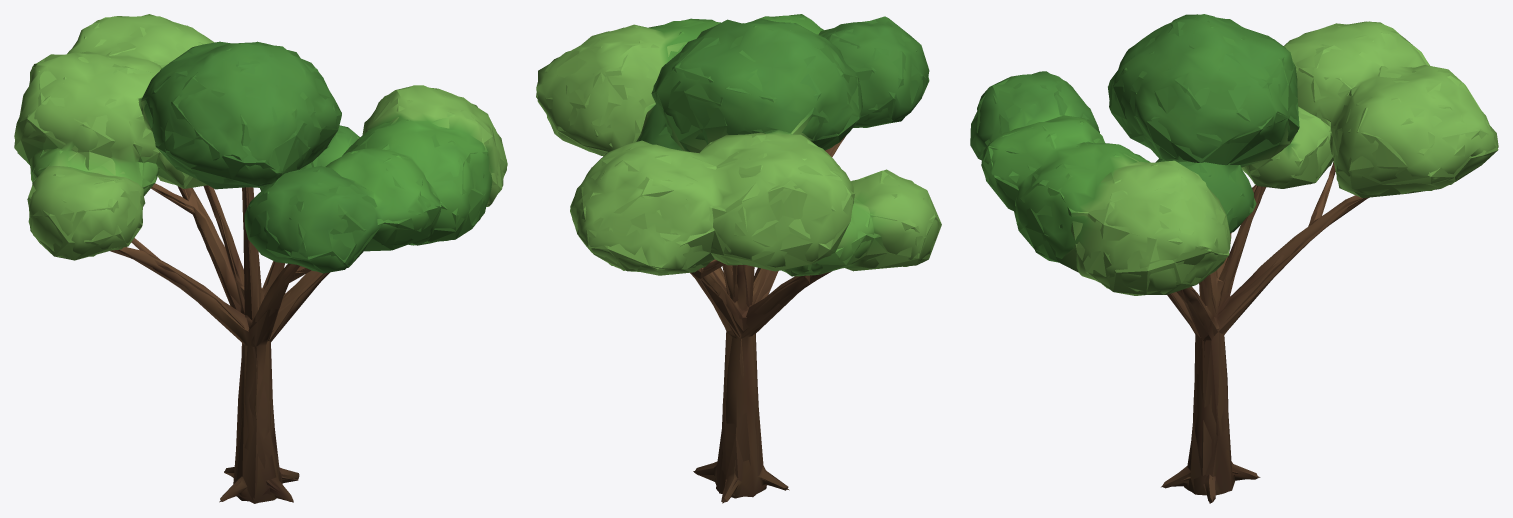
Rendered from broadleaf_mature.glb.
3 views of the same model, side by side, from view 1: azimuth 30°, elevation 25°; view 2: azimuth 150°, elevation 25°; view 3: azimuth 270°, elevation 25° (orthographic). The views are drawn at different scales.
Visible parts, largest first — view 1: broadleaf_mature_LOD1, broadleaf_mature_LOD2; view 2: broadleaf_mature_LOD1, broadleaf_mature_LOD2; view 3: broadleaf_mature_LOD1, broadleaf_mature_LOD2.
Boxes of the visible parts, left/top/right/bottom form: broadleaf_mature_LOD1: left=14, top=14, right=506, bottom=503; broadleaf_mature_LOD2: left=14, top=16, right=507, bottom=503; broadleaf_mature_LOD1: left=536, top=14, right=939, bottom=502; broadleaf_mature_LOD2: left=536, top=17, right=941, bottom=503; broadleaf_mature_LOD1: left=971, top=14, right=1498, bottom=502; broadleaf_mature_LOD2: left=970, top=14, right=1498, bottom=503.
Size of the model in its own units: 4.49 by 4.65 by 4.92.
